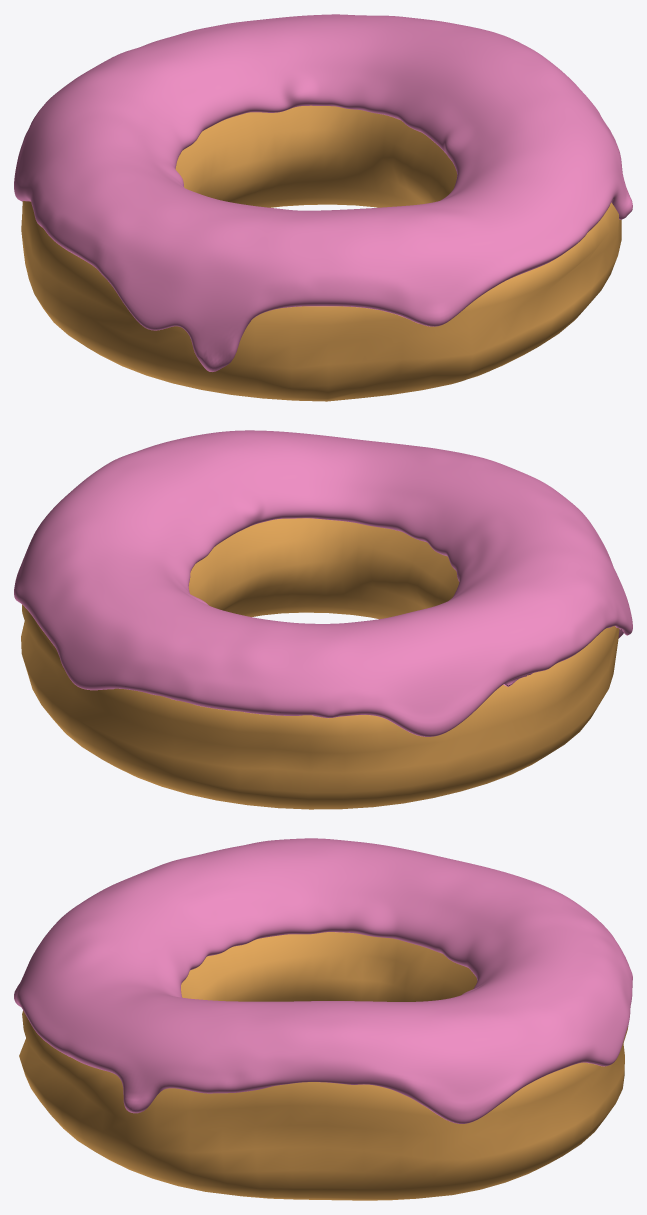
Rendered from donut2.glb.
3 views of the same model, one above another, from view 1: azimuth 30°, elevation 25°; view 2: azimuth 150°, elevation 25°; view 3: azimuth 270°, elevation 25° (orthographic).
Visible parts, largest first — view 1: Icing, Donut; view 2: Icing, Donut; view 3: Icing, Donut.
Part boxes in pixels (bbox=[...]): Icing: bbox=[14, 14, 632, 371]; Donut: bbox=[21, 105, 621, 401]; Icing: bbox=[14, 430, 632, 736]; Donut: bbox=[21, 518, 619, 809]; Icing: bbox=[14, 838, 632, 1123]; Donut: bbox=[19, 932, 628, 1200].
Size of what is drawn, in the model's own units: 0.1297 by 0.0471 by 0.137.
